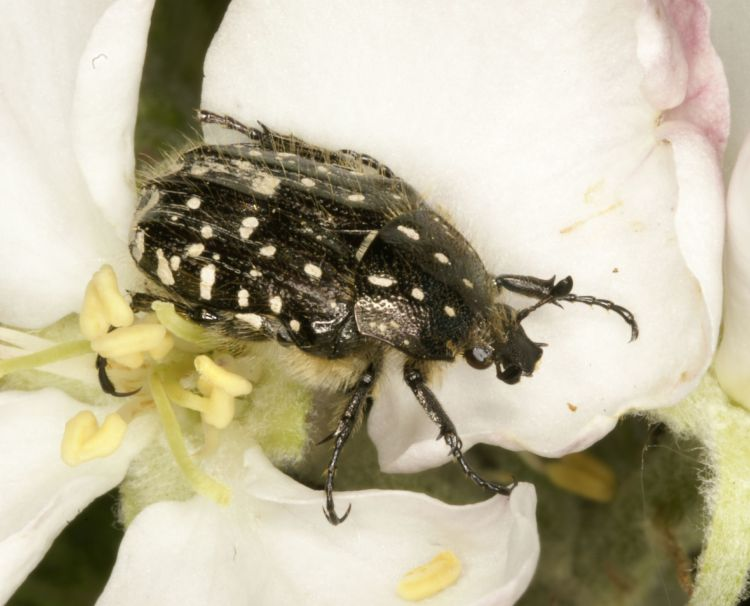Oxythyrea_funesta: (93, 92, 640, 526)
